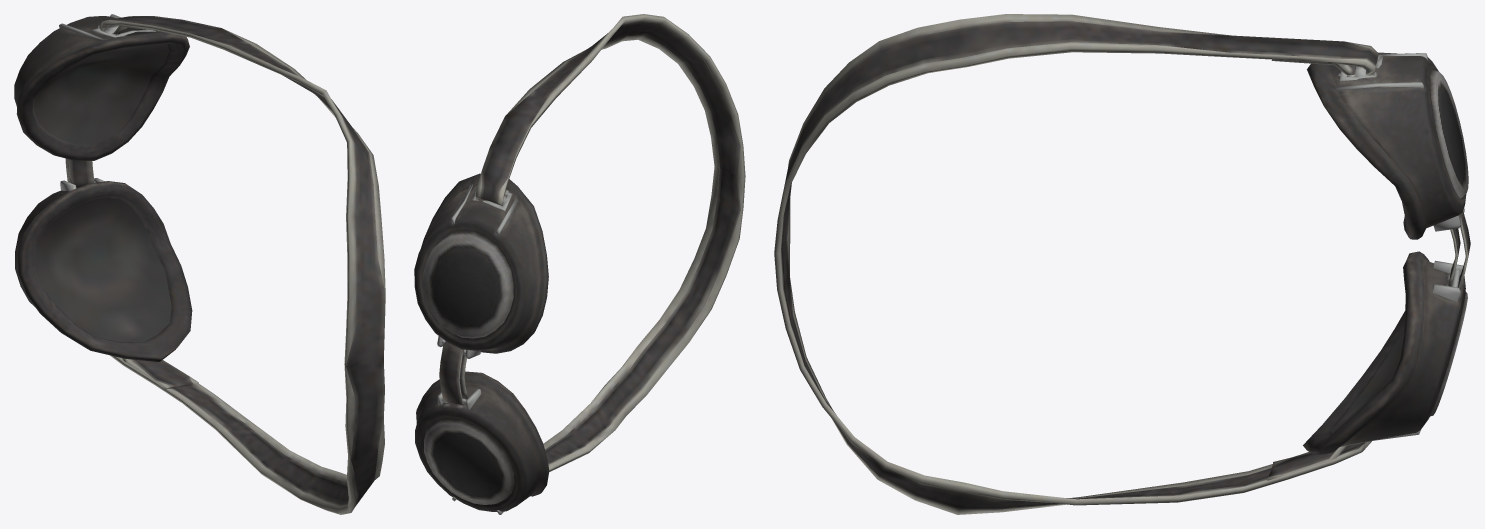
File: M_WeldingGogglesOn.fbx
3 renders of one model, left to right at view 1: azimuth 30°, elevation 25°; view 2: azimuth 150°, elevation 25°; view 3: azimuth 270°, elevation 25°, orthographic. The views are drawn at different scales.
Parts seen in each view (by area): view 1: WeldingGoggles; view 2: WeldingGoggles; view 3: WeldingGoggles.
Boxes of the visible parts, x1=… form: WeldingGoggles: x1=14, y1=14, x2=385, y2=514; WeldingGoggles: x1=414, y1=14, x2=745, y2=514; WeldingGoggles: x1=774, y1=14, x2=1470, y2=514.
Bounding box in the file's own units: 0.0423 × 0.1181 × 0.1496.
